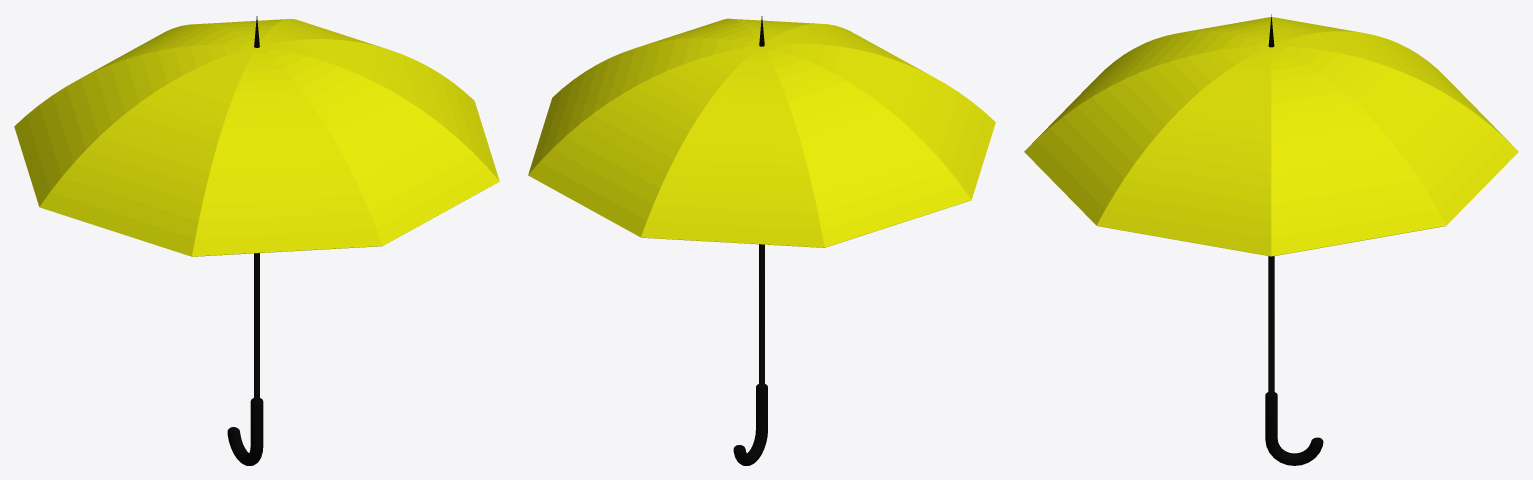
File: parapluie.fbx
3 views of the same model, side by side, from view 1: azimuth 30°, elevation 25°; view 2: azimuth 150°, elevation 25°; view 3: azimuth 270°, elevation 25° (orthographic). The views are drawn at different scales.
Parts seen in each view (by area): view 1: Vert, Cylinder; view 2: Vert, Cylinder; view 3: Vert, Cylinder.
Boxes of the visible parts, x1,y1,x2,y2 form: Vert: (14, 19, 499, 256); Cylinder: (227, 16, 263, 465); Vert: (528, 18, 995, 247); Cylinder: (733, 16, 767, 465); Vert: (1024, 17, 1518, 256); Cylinder: (1265, 14, 1323, 465).
Bounding box in the file's own units: 543 × 546 × 543.
